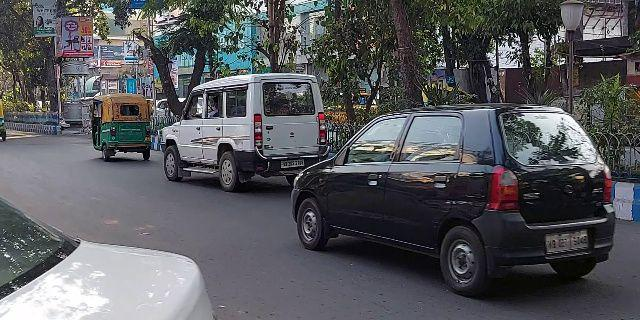Autorickshaw: (85, 92, 154, 166)
Car: (285, 100, 619, 295), (156, 72, 331, 196)
